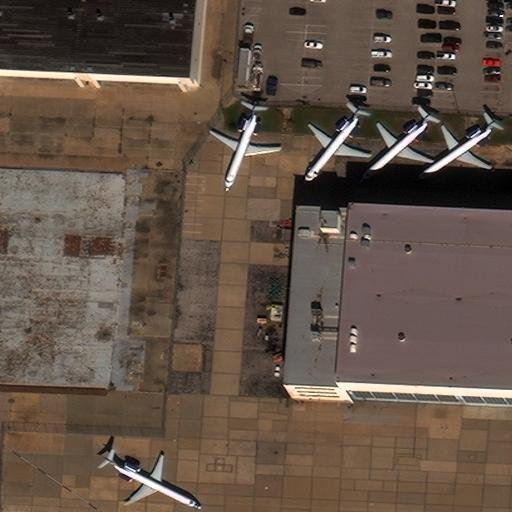Medium Civil Transport: (209, 105, 280, 187), (105, 455, 196, 507), (415, 120, 494, 179), (361, 115, 431, 180), (306, 109, 370, 179)
